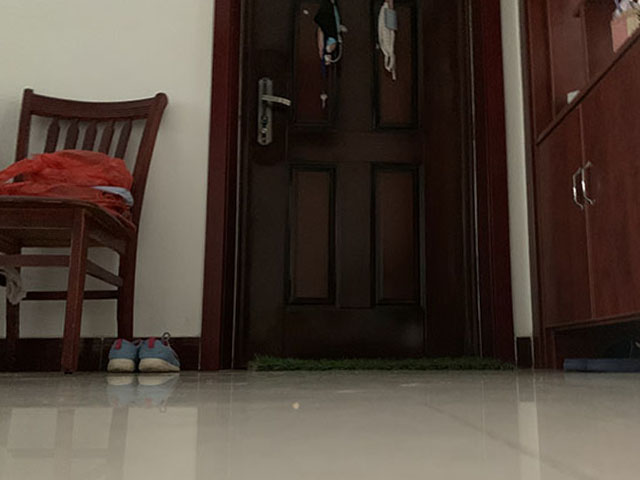cabinet: (525, 29, 640, 371)
carpet: (243, 351, 519, 372)
stool: (1, 89, 172, 376)
